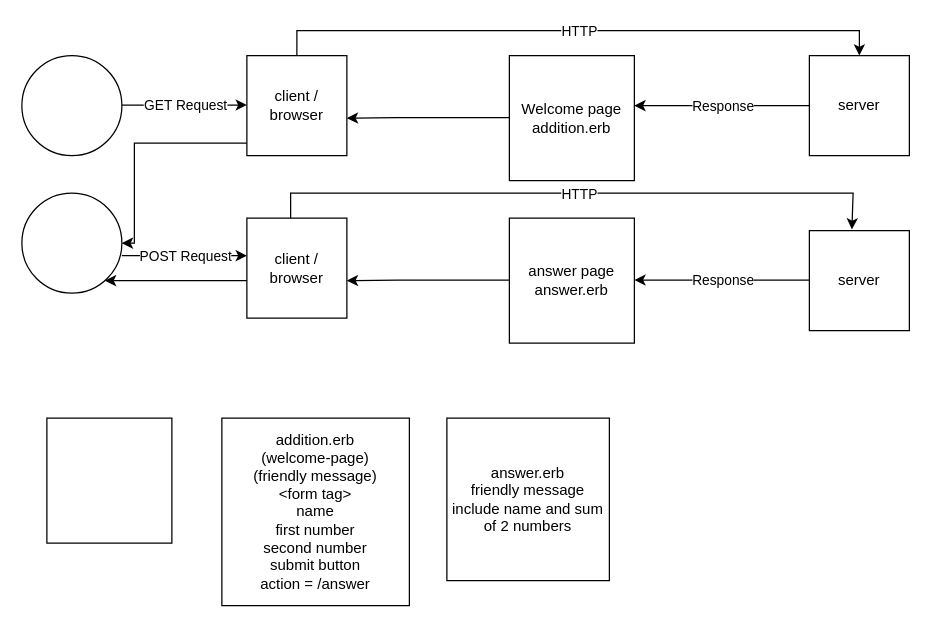
Some shapes in this 931 by 628 pixel diagram are drawn without their labels. The box of each missing label's shape, as (x1, y1, x2, y2) in pixels:
app.rb post /addition get /answer: (46, 417, 172, 543)
User enters data: (21, 192, 122, 293)
User visits website: (21, 54, 122, 156)
